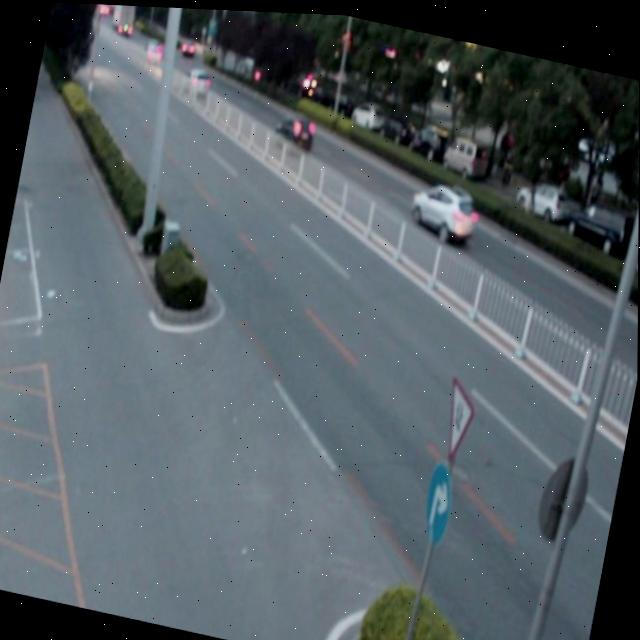car: (405, 172, 482, 245), (271, 107, 316, 155)
